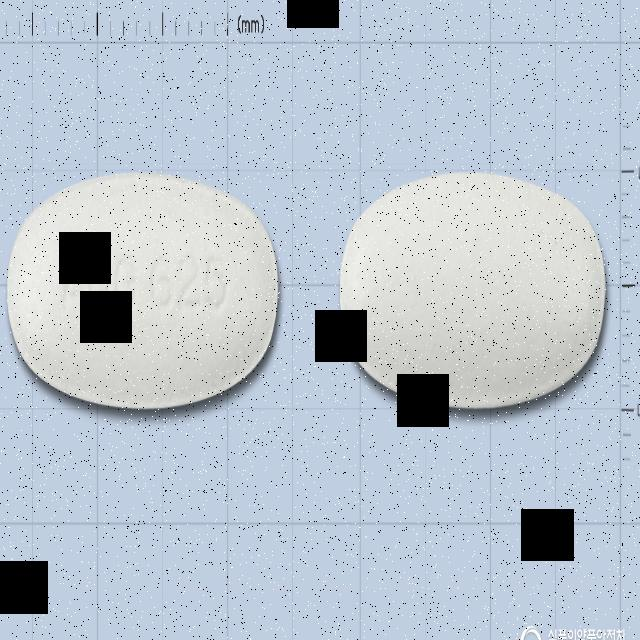Ilsung Augmentin: (7, 171, 280, 411)
